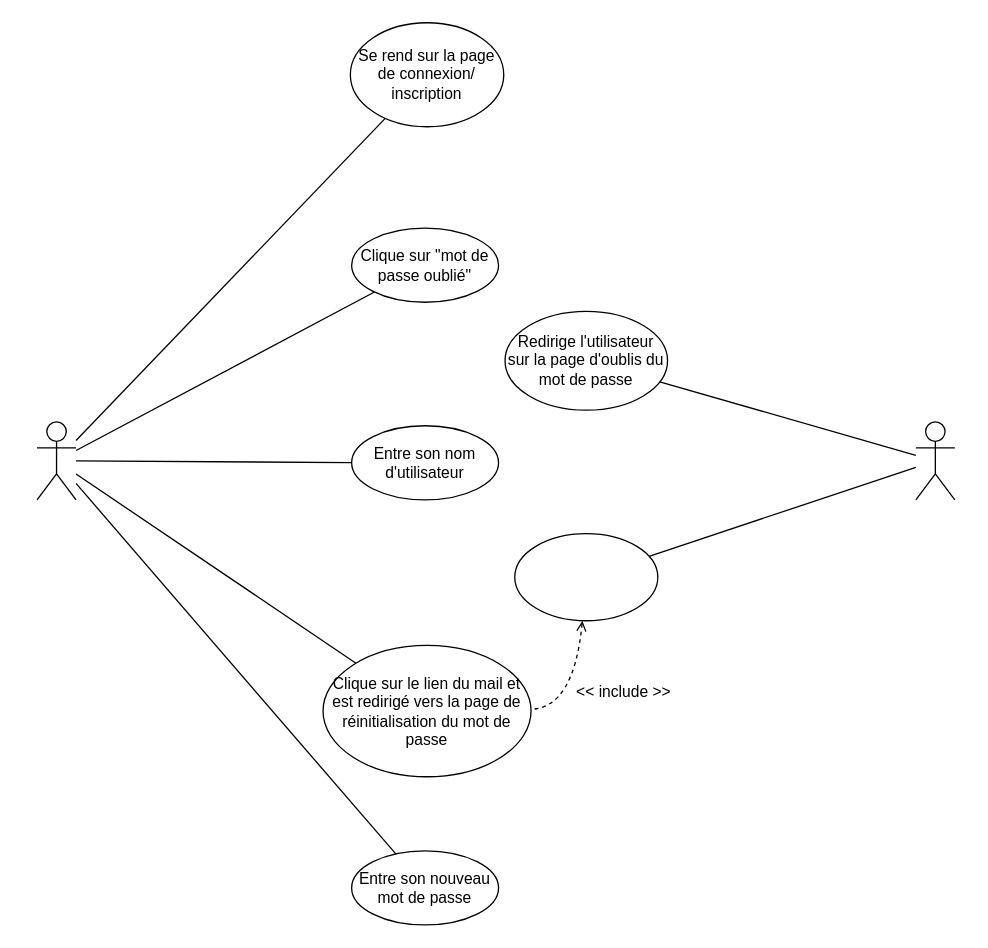
Image size: 988x948. Some labels were removed from this diagram. Here are the shapes that lost their labels. From the top down, the box of each, then its label:
(36, 421, 76, 500): Utilisateur
(915, 421, 955, 500): Systeme
(514, 532, 658, 621): Envois un mail de réinitialisation du mdp
